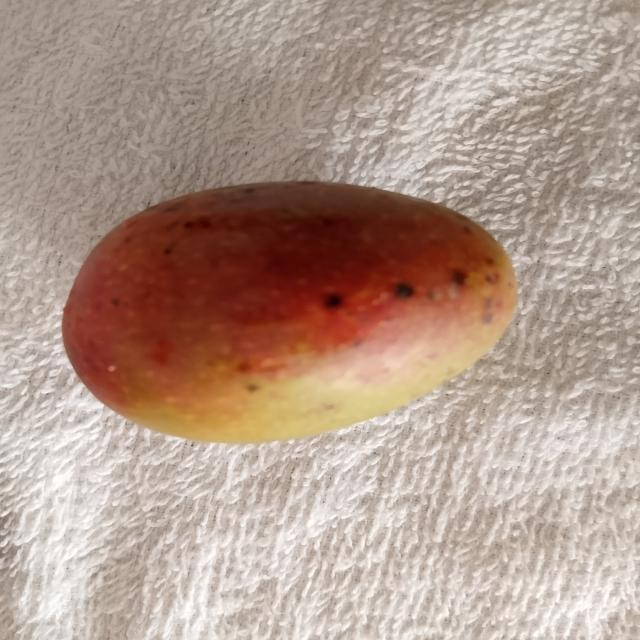mango: (63, 183, 516, 442)
